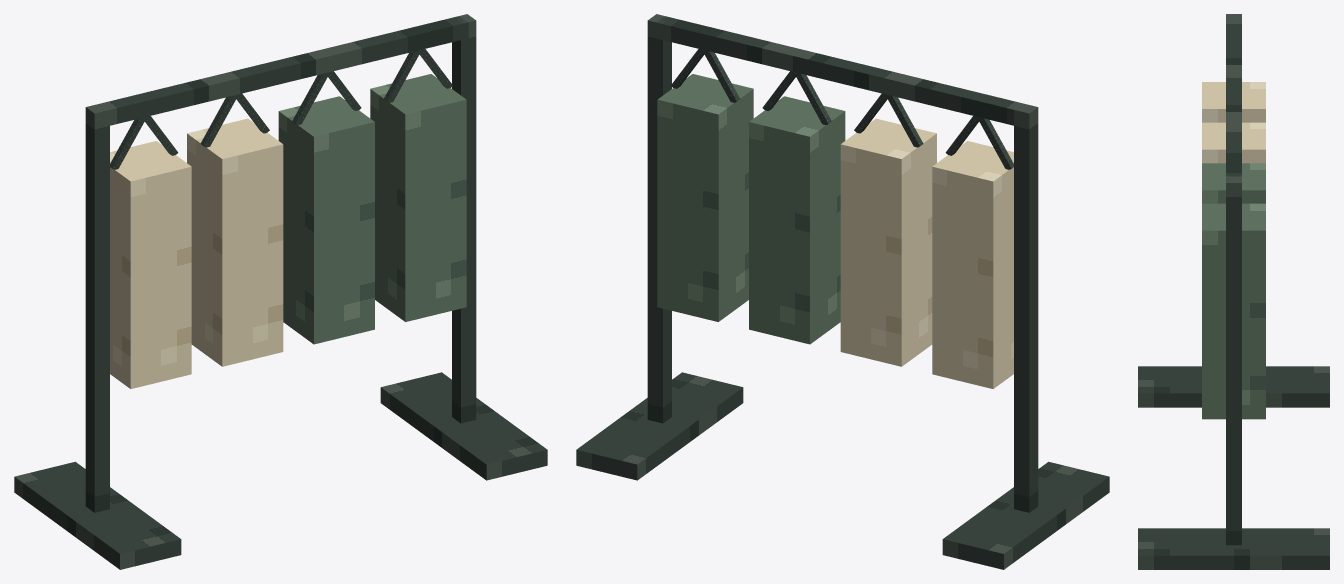
The model's file is shop_clothing_rack.gltf.
3 views of the same model, side by side, from view 1: azimuth 30°, elevation 25°; view 2: azimuth 150°, elevation 25°; view 3: azimuth 270°, elevation 25° (orthographic). The views are drawn at different scales.
Parts seen in each view (by area): view 1: clothing (×4), pole (×2), foot (×2), rail; view 2: clothing (×4), pole (×2), foot (×2), rail; view 3: clothing (×4), foot (×2), pole, rail.
Boxes of the visible parts, left/top/right/bottom form: clothing (×4): left=110, top=74, right=466, bottom=388; pole (×2): left=85, top=14, right=476, bottom=512; foot (×2): left=14, top=372, right=547, bottom=569; rail: left=94, top=16, right=468, bottom=125; clothing (×4): left=657, top=74, right=1013, bottom=388; pole (×2): left=647, top=14, right=1038, bottom=512; foot (×2): left=576, top=372, right=1109, bottom=569; rail: left=655, top=16, right=1029, bottom=125; clothing (×4): left=1202, top=82, right=1265, bottom=419; foot (×2): left=1138, top=366, right=1329, bottom=569; pole: left=1226, top=176, right=1241, bottom=545; rail: left=1226, top=18, right=1241, bottom=179.
Bounding box in the file's own units: 1.75 × 1.62 × 0.75.
Materials: 3 (3 with a texture image).
